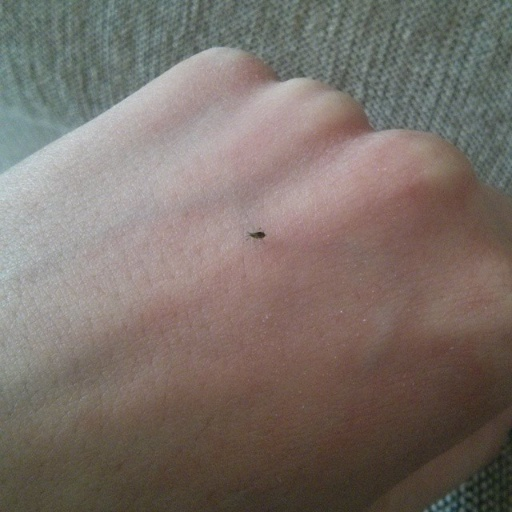hand: (3, 48, 512, 507)
